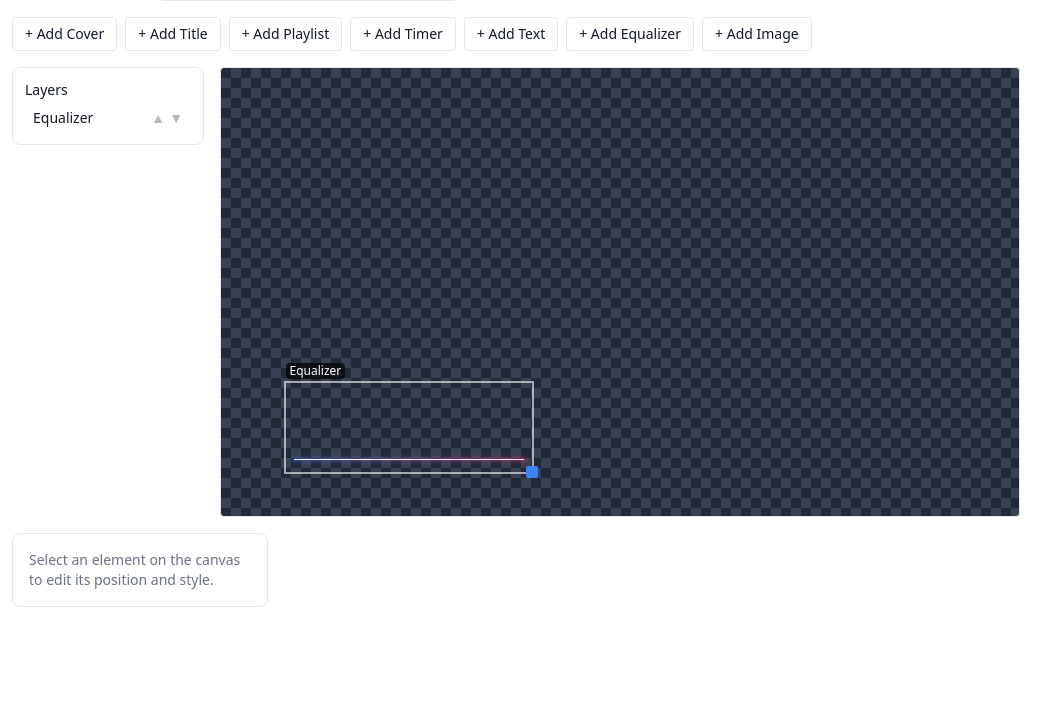
Test: TemplateEditor › selecting an equalizer element shows a color-stop editor, glow and reactivity controls, no gradient toggle
Click the text "Equalizer" at {"x": 315, "y": 370}, box top-left (286, 362), bottom-right (345, 378)
(page scrolled)
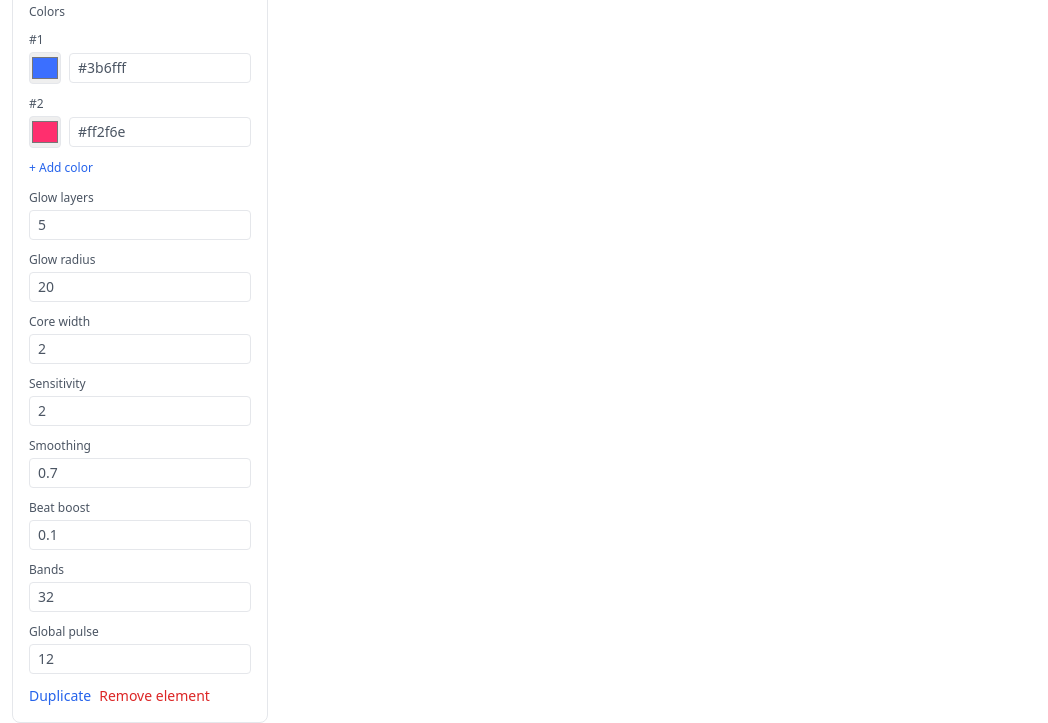
expect the colour field labelled "#1" is shown: met, box top-left (29, 52), bottom-right (61, 84)
expect the colour field labelled "#2" is shown: met, box top-left (29, 116), bottom-right (61, 148)
expect the number field labelled "Glow layers" is shown: met, box top-left (29, 210), bottom-right (251, 240)
